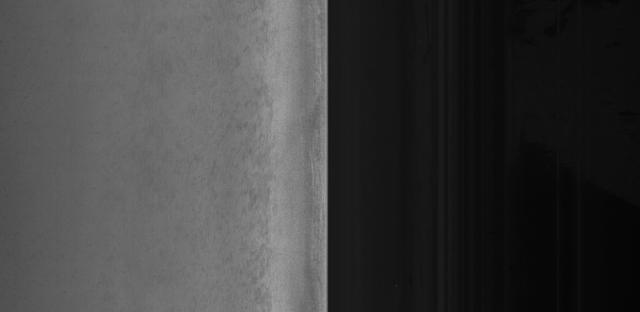silk_spot: (214, 113, 263, 189)
